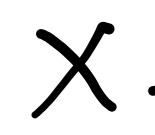mult: (32, 21, 116, 117)
